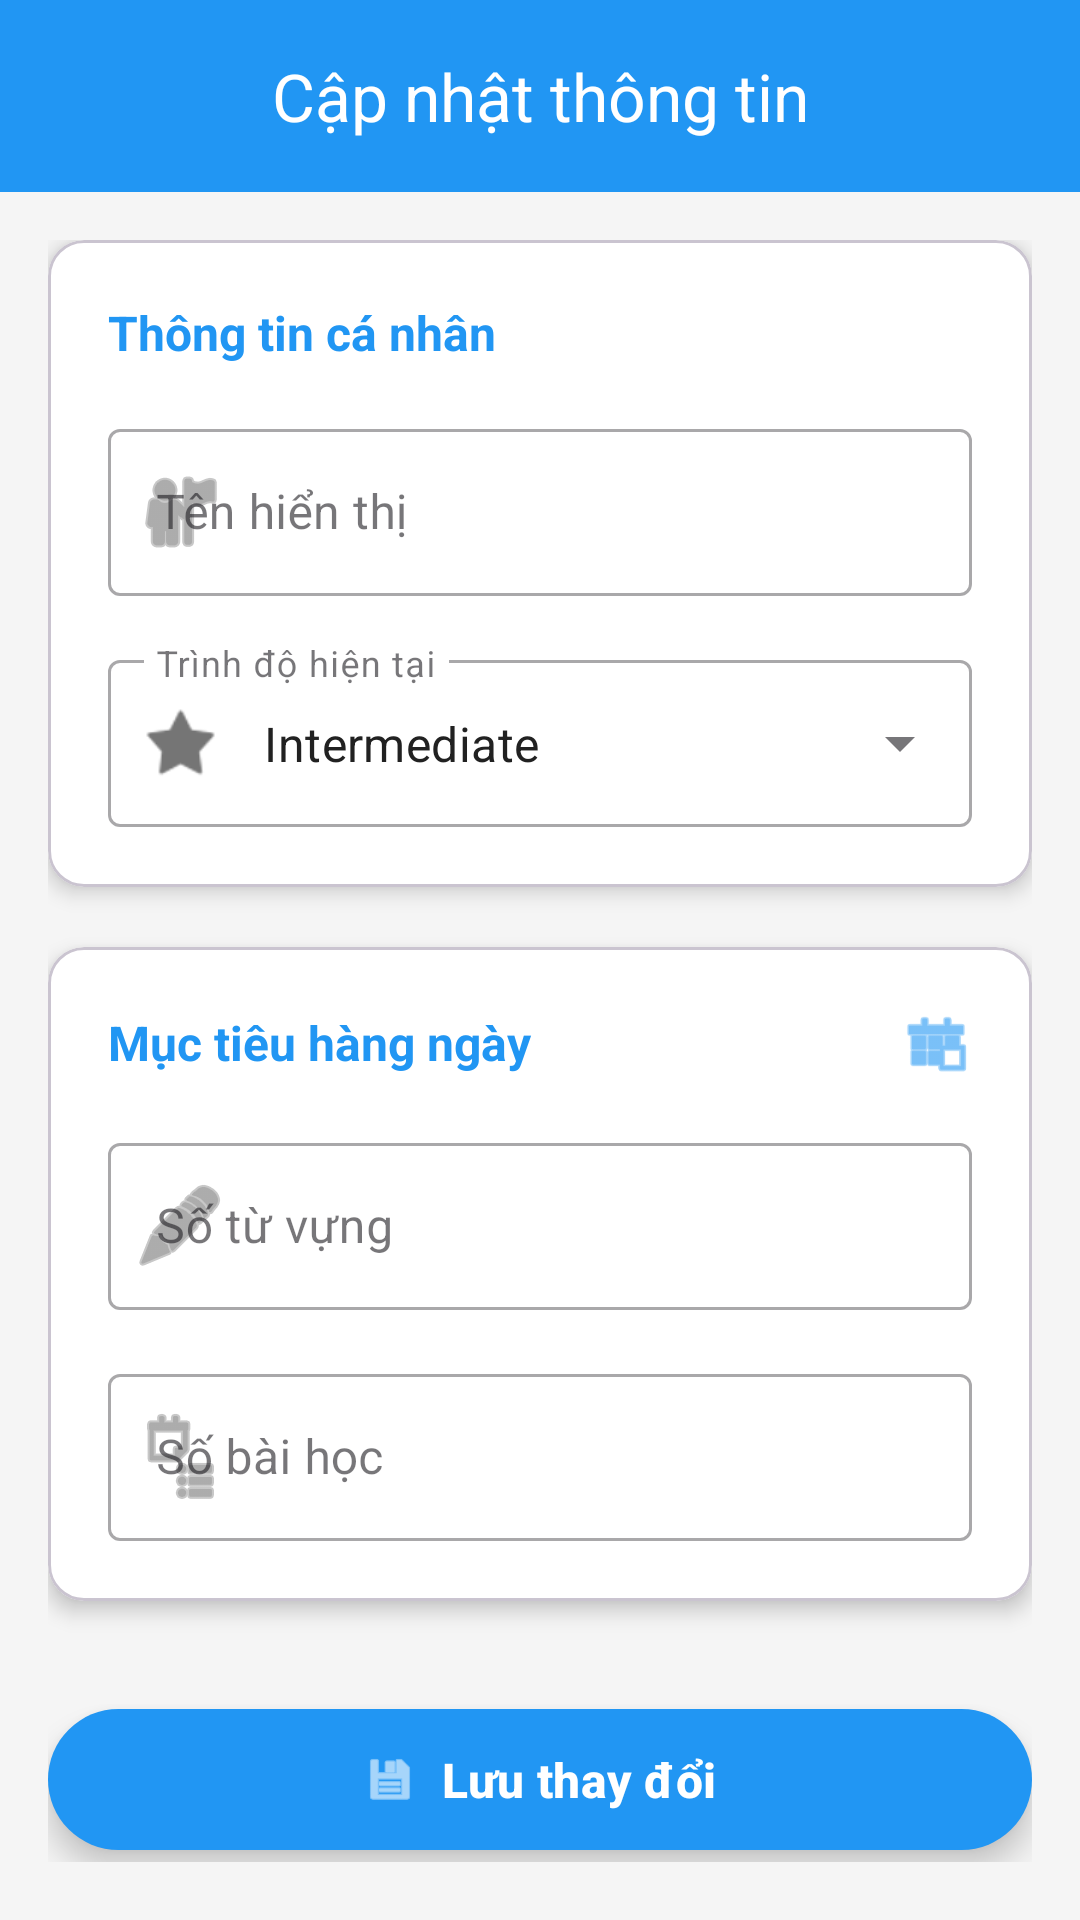

Icon bounding boxes for this 1080*1920 phone screenshot, format (x1, y1, x2, y2):
today: (907, 1017, 966, 1072)
